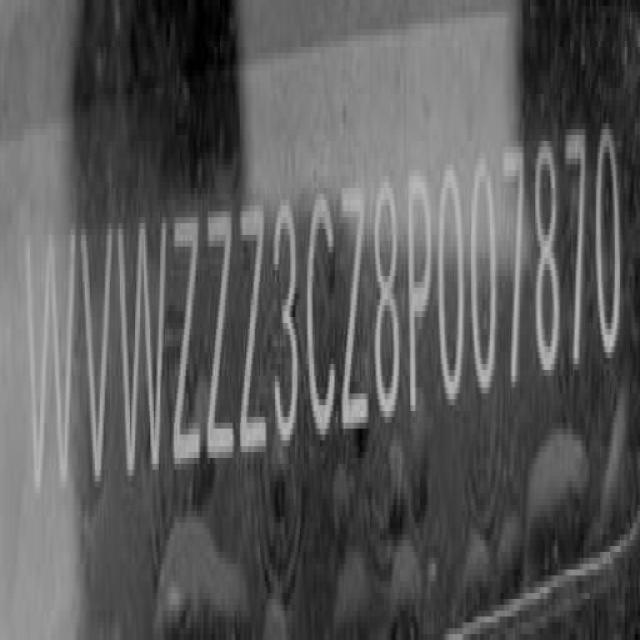0: (594, 119, 626, 372), (436, 159, 466, 411), (467, 148, 495, 407)
3: (272, 188, 301, 462)
7: (503, 142, 529, 398), (566, 123, 590, 379)
8: (375, 168, 402, 433), (536, 132, 563, 387)
C: (307, 184, 338, 450)
P: (405, 161, 433, 426)
V: (80, 224, 114, 485)
W: (115, 217, 169, 478), (25, 229, 70, 514)
Z: (173, 204, 204, 488), (237, 188, 267, 467), (205, 195, 234, 478), (341, 171, 368, 440)
